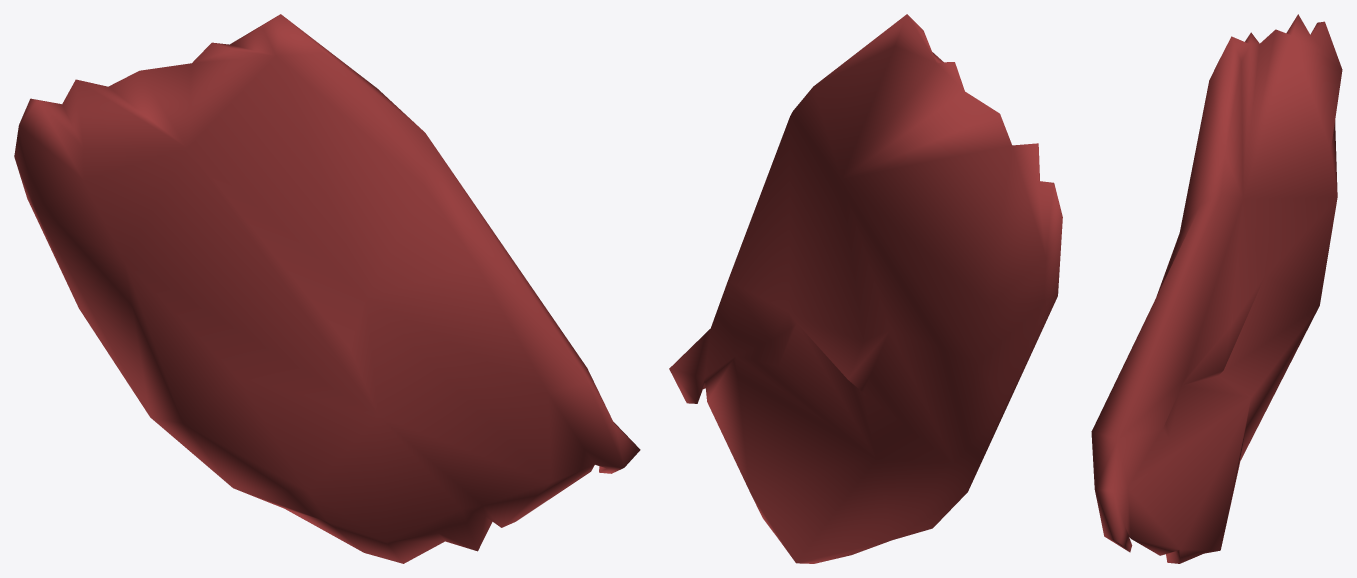
File: mentalis-muscle-r.glb
The picture shows the model from 3 angles, left to right: view 1: azimuth 30°, elevation 25°; view 2: azimuth 150°, elevation 25°; view 3: azimuth 270°, elevation 25°; orthographic projection. The views are drawn at different scales.
Parts seen in each view (by area): view 1: Mentalis muscle.r; view 2: Mentalis muscle.r; view 3: Mentalis muscle.r.
Boxes of the visible parts, x1,y1,x2,y2 form: Mentalis muscle.r: (14, 14, 640, 563); Mentalis muscle.r: (669, 14, 1062, 563); Mentalis muscle.r: (1091, 14, 1342, 563).
Size of the model in its own units: 0.0137 by 0.0148 by 0.00708.
